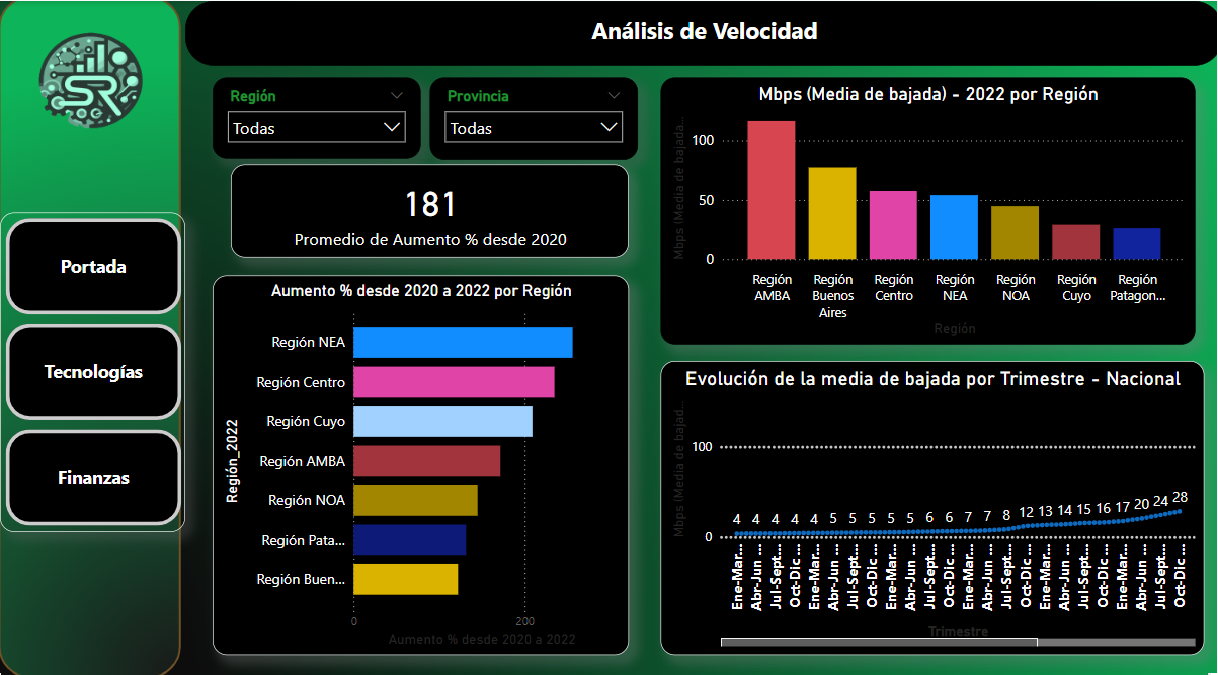

What the dashboard file says about the page in this screenshot:
{"tool":"powerbi","page":{"name":"Velocidad","canvas":[1280,720],"ordinal":3},"visuals":[{"type":"lineChart","title":"Evolución de la meda de bajada por Trimestre - Nacional","fields":{"Y":["Sum(historico_velocidad_internet_nac__ok.Mbps (Media de bajada))"],"Category":["historico_velocidad_internet_nac__ok.Trimestre.1"]},"box":[0,98.7,813,359.2],"z":0},{"type":"textbox","box":[327.7,13.7,626.6,68.6],"z":1},{"type":"lineClusteredColumnComboChart","fields":{"Y":["Sum(promedio_vel_region_presente.Mbps (Media de bajada))"],"Category":["promedio_vel_region_presente.Región"]},"box":[822.6,98.7,457.9,359.2],"z":2},{"type":"clusteredBarChart","fields":{"Y":["Sum(aumento_porcentual_region_2anios.Aumento %)"],"Category":["aumento_porcentual_region_2anios.Región_2022"]},"box":[96,471.6,726.7,248.2],"z":3},{"type":"slicer","fields":{"Values":["acceso_por_region.Región"]},"box":[933.7,514.1,259.1,119.3],"z":4}]}

Visuals, with their boxes in screenshot pixels (x1, y1, x2, y2), scaled from the page's 1280x720 canvas onto the 1218x675 screenshot:
"Evolución de la meda de bajada por Trimestre - Nacional" lineChart: left=0, top=93, right=774, bottom=429
textbox: left=312, top=13, right=908, bottom=77
lineClusteredColumnComboChart - Sum(promedio_vel_region_presente.Mbps (Media de bajada)) x promedio_vel_region_presente.Región: left=783, top=93, right=1217, bottom=429
clusteredBarChart - Sum(aumento_porcentual_region_2anios.Aumento %) x aumento_porcentual_region_2anios.Región_2022: left=91, top=442, right=783, bottom=674
slicer - acceso_por_region.Región: left=888, top=482, right=1135, bottom=594
